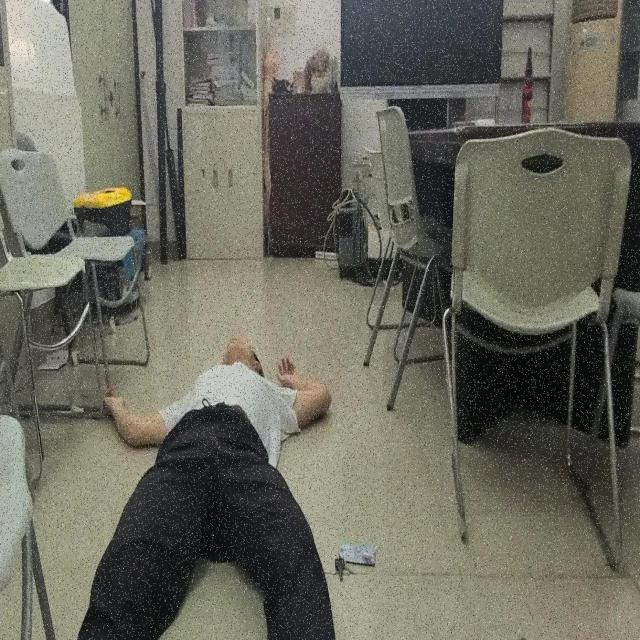fall: (75, 336, 335, 640)
